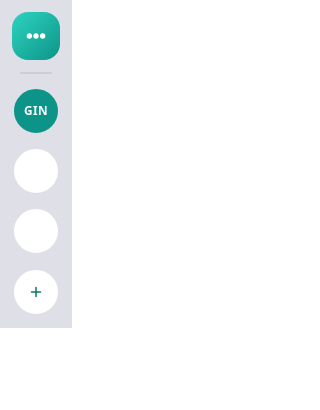
ProgramMenu › menu contextuel › se ferme sur Échap
Right-click the list item "MA" at (36,231), box [0,207,72,255]
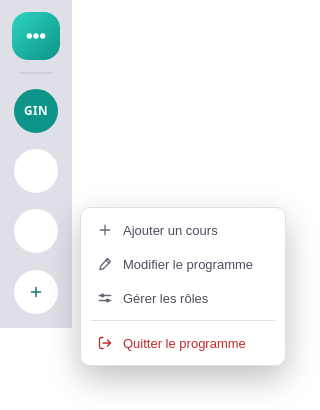
Press Escape
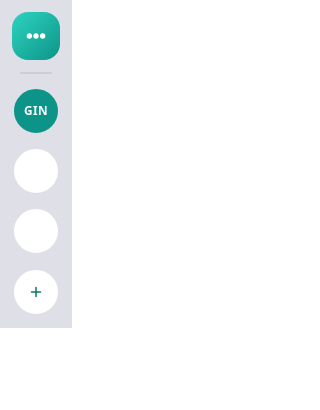
Check: the menu is gone
